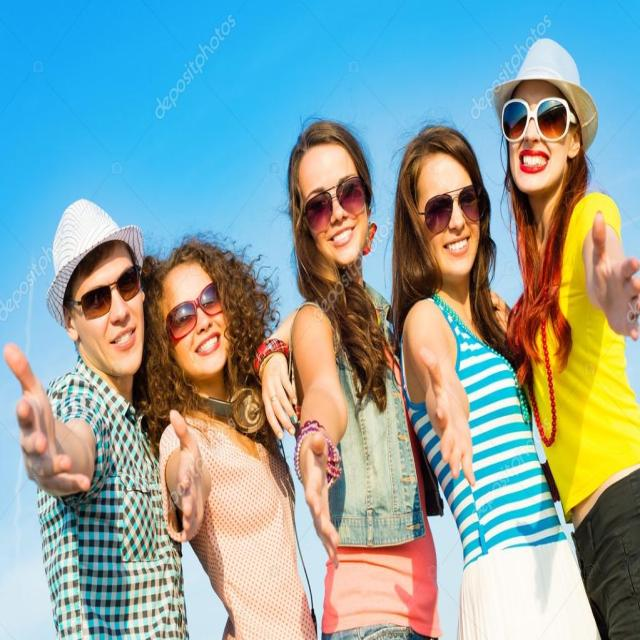hat: (47, 202, 146, 376), (492, 38, 596, 198)
head: (149, 244, 241, 383), (287, 121, 372, 270), (401, 132, 484, 278)
